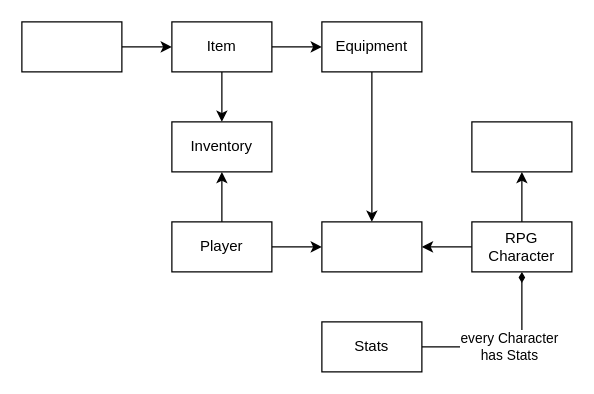
The diagram is 594 pixels wide and 394 high, and some of its shapes have lost their labels. Here are the shapes that lost their labels. From the top down, the box of each, then its label:
(21, 21, 122, 72): ItemType
(471, 121, 572, 172): non playable Character
(321, 221, 422, 272): playable Character
